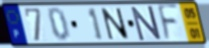0: (47, 7, 72, 43)
1: (87, 6, 104, 42)
7: (22, 7, 44, 43)
F: (156, 3, 180, 44)
N: (130, 5, 163, 43), (100, 7, 132, 41)
